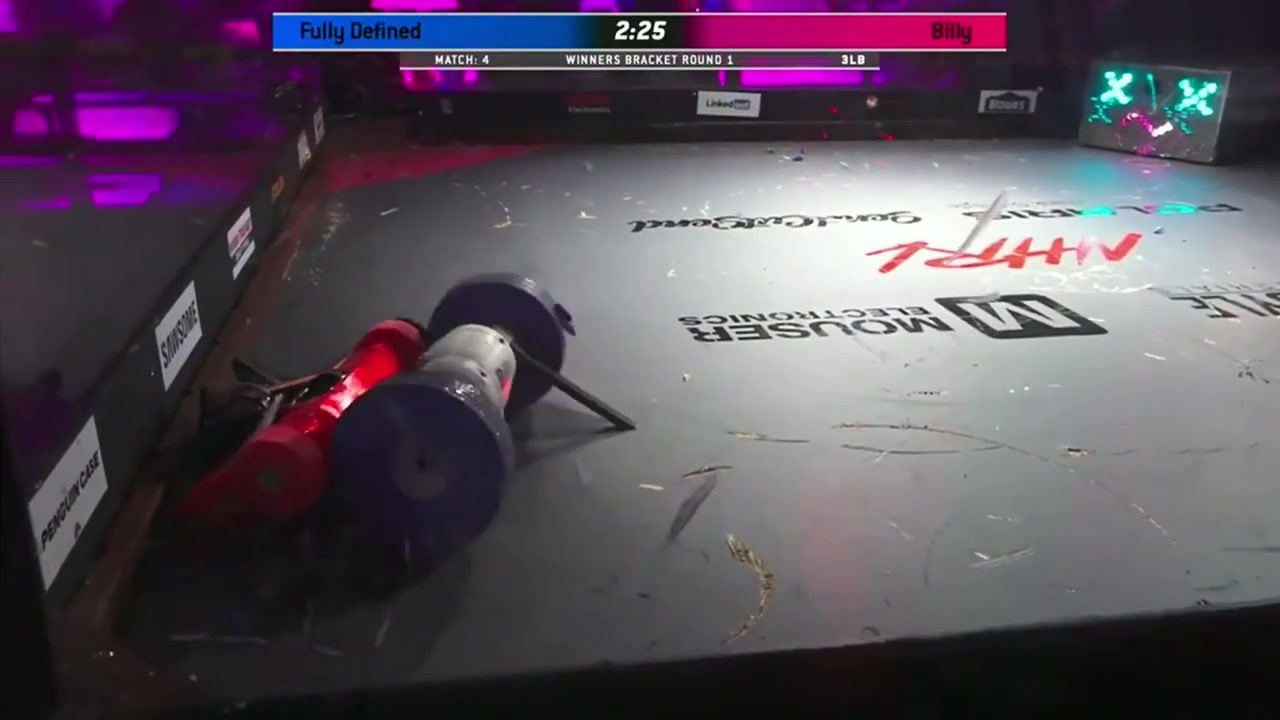combatbot: (330, 270, 570, 564), (170, 318, 429, 533)
housebot: (1081, 56, 1279, 168)
